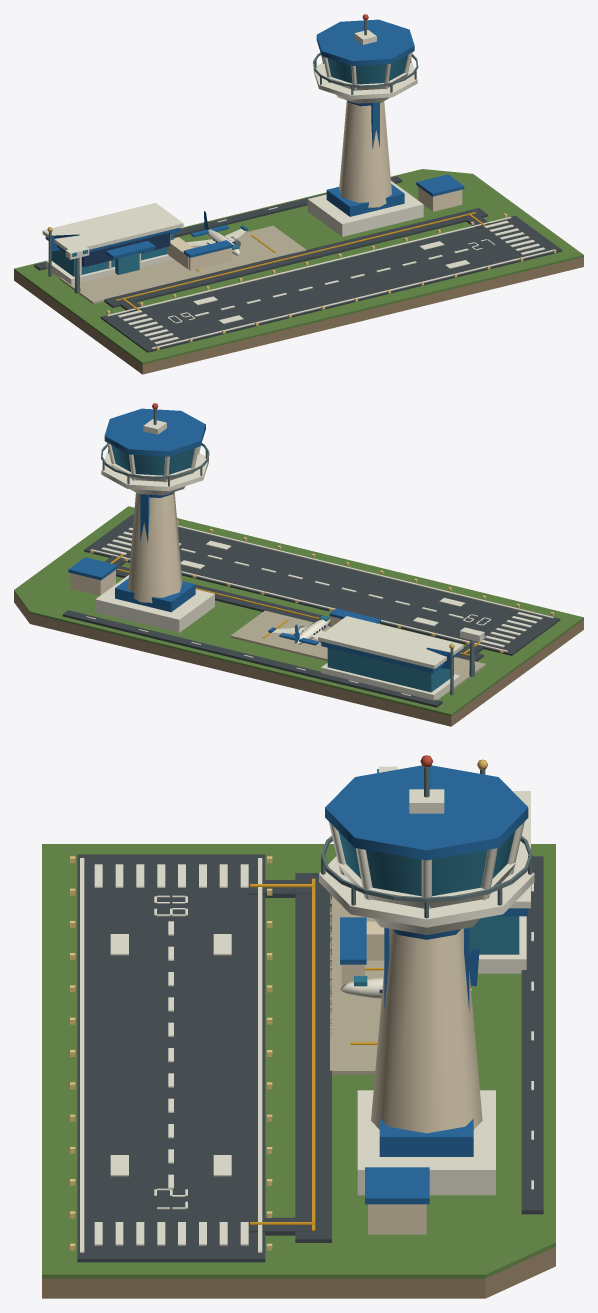
File: airport-lv1.glb
The picture shows the model from 3 angles, top to bottom: view 1: azimuth 30°, elevation 25°; view 2: azimuth 150°, elevation 25°; view 3: azimuth 270°, elevation 25°; orthographic projection. The views are drawn at different scales.
Parts seen in each view (by area): view 1: runway_airportAsphalt, foundation_grass, foundation_stoneDark, apron_paving, control_tower_cream, taxiway_airportAsphalt, terminal_roof_white, control_room_roof_airportTeam, control_tower_base_white, runway_edge_lines_white, control_room_glass, runway_threshold_white (+13 smaller); view 2: foundation_grass, runway_airportAsphalt, foundation_stoneDark, control_tower_cream, terminal_roof_white, control_room_roof_airportTeam, access_road_airportAsphalt, control_tower_base_white, apron_paving, terminal_glass, runway_edge_lines_white, taxiway_airportAsphalt (+13 smaller); view 3: runway_airportAsphalt, foundation_grass, control_tower_cream, control_room_roof_airportTeam, taxiway_airportAsphalt, foundation_stoneDark, access_road_airportAsphalt, control_tower_base_white, apron_paving, control_room_glass, tower_balcony_white, runway_edge_lines_white (+19 smaller).
Part boxes in pixels (x1,y1,x2,y2): runway_airportAsphalt: (100,215,562,352); foundation_grass: (14,169,583,364); foundation_stoneDark: (14,257,583,374); apron_paving: (59,225,306,304); control_tower_cream: (339,100,391,207); taxiway_airportAsphalt: (104,208,488,307); terminal_roof_white: (42,203,183,250); control_room_roof_airportTeam: (316,19,414,65); control_tower_base_white: (307,181,423,236); runway_edge_lines_white: (107,216,554,348); control_room_glass: (327,55,407,84); runway_threshold_white: (118,220,545,344); foundation_grass: (14,506,583,716); runway_airportAsphalt: (84,514,560,655); foundation_stoneDark: (14,592,583,726); control_tower_cream: (128,492,182,602); terminal_roof_white: (318,616,463,668); control_room_roof_airportTeam: (104,408,205,456); access_road_airportAsphalt: (62,610,442,707); control_tower_base_white: (95,575,214,632); apron_paving: (230,610,485,689); terminal_glass: (327,648,453,692); runway_edge_lines_white: (92,525,553,651); taxiway_airportAsphalt: (116,565,483,661); runway_airportAsphalt: (77,854,265,1262); foundation_grass: (42,844,555,1278); control_tower_cream: (371,928,482,1133); control_room_roof_airportTeam: (325,765,528,860); taxiway_airportAsphalt: (295,873,331,1242); foundation_stoneDark: (42,1246,555,1298); access_road_airportAsphalt: (521,856,543,1214); control_tower_base_white: (357,1090,495,1195); apron_paving: (330,894,384,1074); control_room_glass: (338,831,514,896); tower_balcony_white: (319,856,534,927); runway_edge_lines_white: (80,858,262,1252).
Size of the model in its own units: 1 by 0.4588 by 0.5043.
